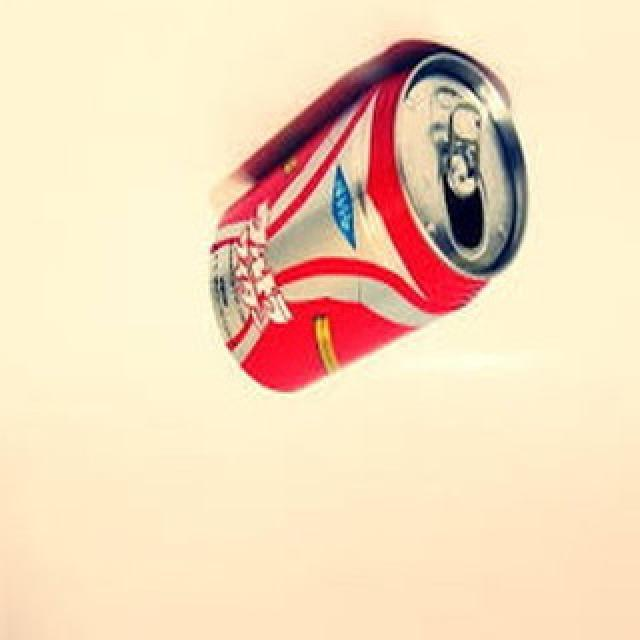can: (206, 47, 537, 398)
